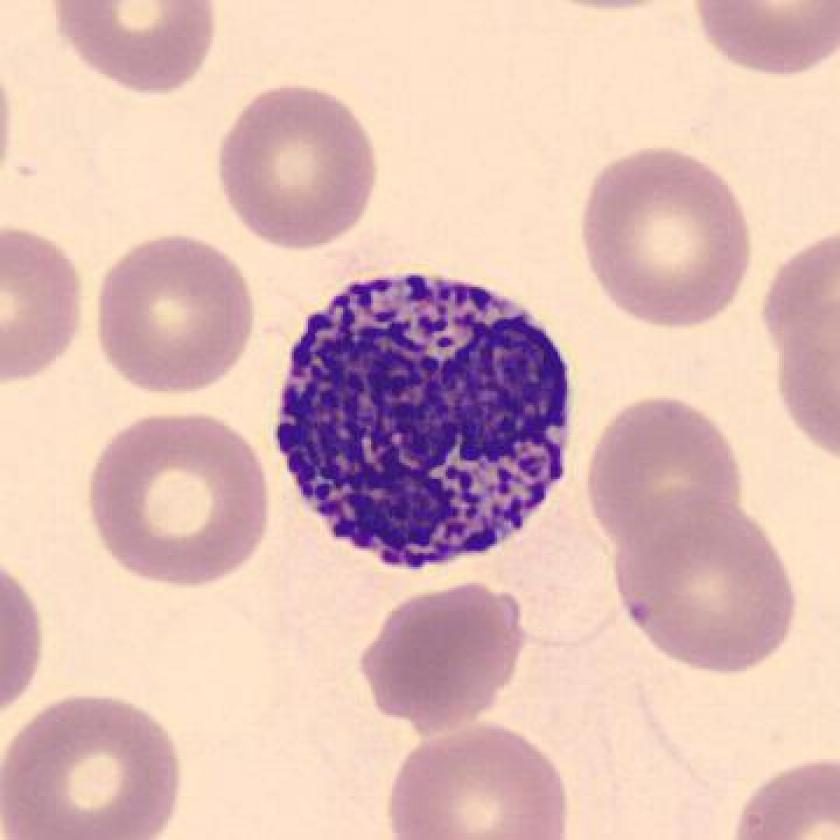basophil: (260, 270, 587, 573)
